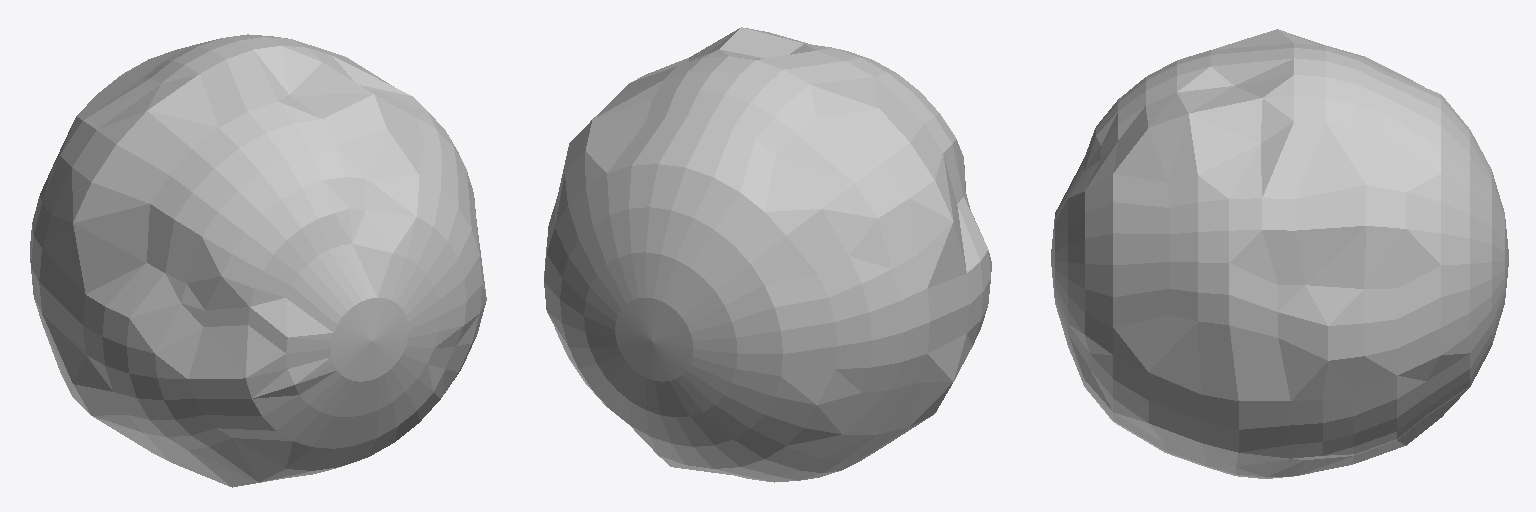
File: leaves.obj
3 renders of one model, left to right at view 1: azimuth 30°, elevation 25°; view 2: azimuth 150°, elevation 25°; view 3: azimuth 270°, elevation 25°, orthographic.
Visible parts, largest first — view 1: Sphere; view 2: Sphere; view 3: Sphere.
Part boxes in pixels (x1,y1,x2,y2): Sphere: (30,34,486,487); Sphere: (544,27,991,482); Sphere: (1051,29,1508,478).
Bounding box in the file's own units: 13.22 × 13.32 × 13.84.